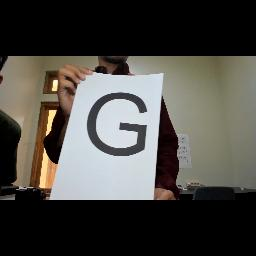g: (82, 86, 152, 164)
